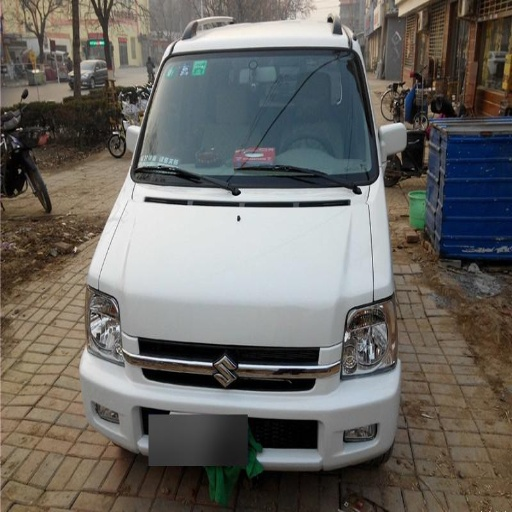front_bumper: (82, 332, 397, 470)
front_right_light: (88, 285, 122, 362)
hood: (99, 182, 371, 342)
left_mirror: (380, 123, 411, 178)
